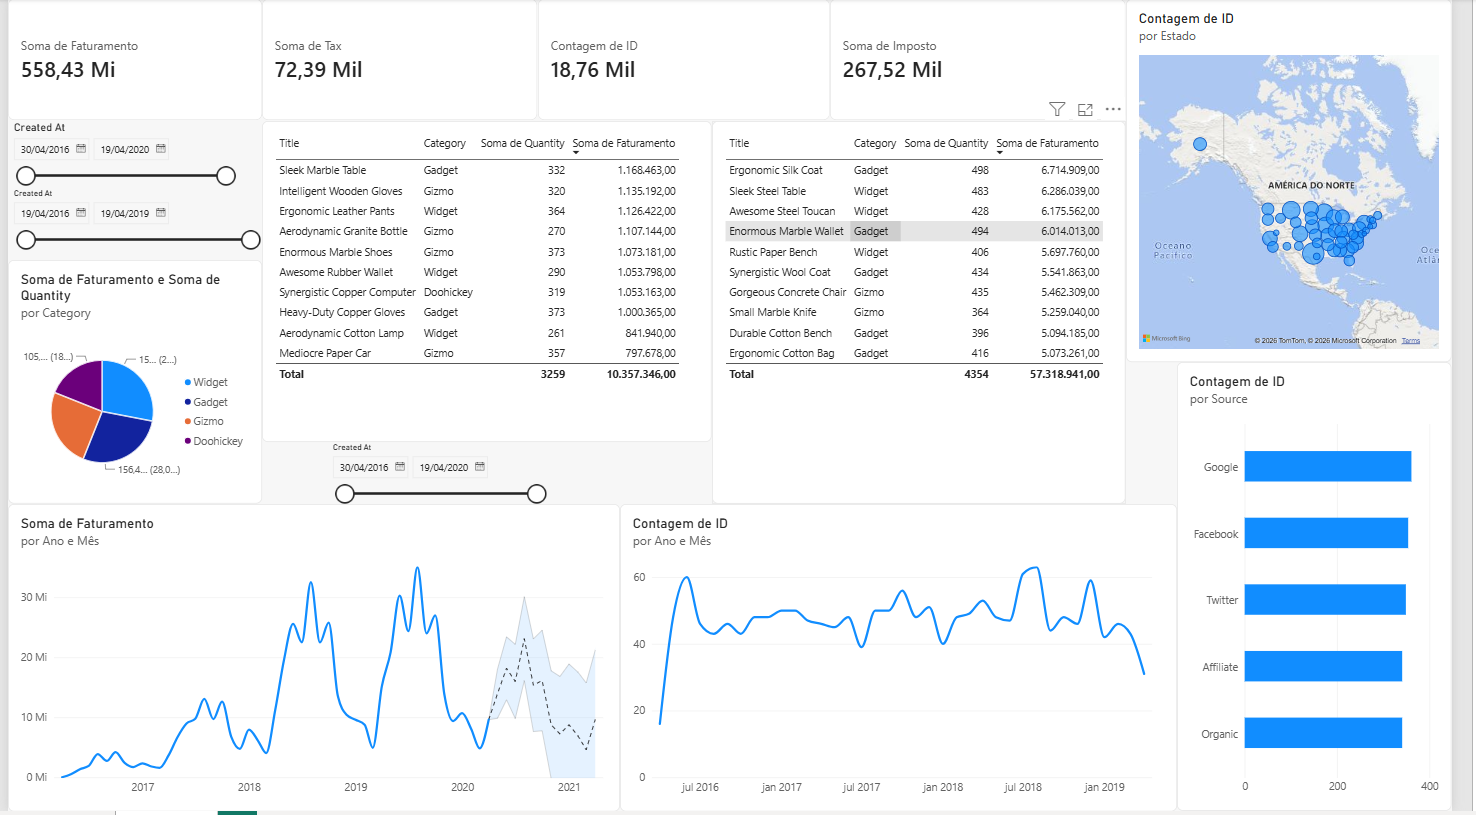

This screenshot's page, from the dashboard's own definition file:
{"tool":"powerbi","page":{"name":"Página 1","canvas":[1920,1080],"ordinal":0},"visuals":[{"type":"cardVisual","fields":{"Data":["Sum(Orders.Faturamento)"]},"box":[0,0,338.5,161.9],"z":0},{"type":"cardVisual","fields":{"Data":["Count(Orders.ID)"]},"box":[704.7,0,388.1,161.9],"z":1000},{"type":"cardVisual","fields":{"Data":["Sum(Orders.Tax)"]},"box":[338.5,0,366.2,161.9],"z":2000},{"type":"slicer","fields":{"Values":["Orders.Created At"]},"box":[0,161.7,305.7,161.4],"z":3000},{"type":"pieChart","fields":{"Category":["Products.Category"],"Y":["Sum(Orders.Faturamento)"]},"box":[0,347.2,338.5,323.9],"z":4000},{"type":"lineChart","fields":{"Category":["People.Created At.Variação.Hierarquia de datas.Ano","People.Created At.Variação.Hierarquia de datas.Mês"],"Y":["CountNonNull(People.ID)"]},"box":[814.1,671.1,741.2,408.5],"z":5000},{"type":"slicer","fields":{"Values":["People.Created At"]},"box":[0,250.9,338.5,96.3],"z":6000},{"type":"lineChart","fields":{"Category":["Orders.Created At.Variação.Hierarquia de datas.Ano","Orders.Created At.Variação.Hierarquia de datas.Mês","Orders.Created At.Variação.Hierarquia de datas.Dia"],"Y":["Sum(Orders.Faturamento)"]},"box":[0,671.1,814.1,408.5],"z":7000},{"type":"map","fields":{"Category":["People.Estado"],"Size":["CountNonNull(People.ID)"]},"box":[1486.7,0,433.3,482.9],"z":8000},{"type":"barChart","fields":{"Category":["People.Source"],"Y":["CountNonNull(People.ID)"]},"box":[1555.3,482.9,364.7,596.7],"z":9000},{"type":"cardVisual","fields":{"Data":["Sum(Orders.Imposto)"]},"box":[1092.8,0,393.9,161.9],"z":10000},{"type":"tableEx","fields":{"Values":["Products.Title","Products.Category","Sum(Orders.Quantity)","Sum(Orders.Faturamento)"]},"box":[338.5,161.9,598.2,427.5],"z":10001},{"type":"tableEx","fields":{"Values":["Products.Title","Products.Category","Sum(Orders.Quantity)","Sum(Orders.Faturamento)"]},"box":[936.7,161.9,550,509.2],"z":10002},{"type":"slicer","fields":{"Values":["Orders.Created At"]},"box":[424.6,589.4,294.7,81.7],"z":10003}]}

Visuals, with their boxes in screenshot pixels (x1, y1, x2, y2), scaled from the page's 1920x1080 canvas onto the 1476x815 screenshot:
cardVisual - Sum(Orders.Faturamento): l=0, t=0, r=260, b=122
cardVisual - Count(Orders.ID): l=542, t=0, r=840, b=122
cardVisual - Sum(Orders.Tax): l=260, t=0, r=542, b=122
slicer - Orders.Created At: l=0, t=122, r=235, b=244
pieChart - Products.Category x Sum(Orders.Faturamento): l=0, t=262, r=260, b=506
lineChart - People.Created At.Variação.Hierarquia de datas.Ano x People.Created At.Variação.Hierarquia de datas.Mês: l=626, t=506, r=1196, b=814
slicer - People.Created At: l=0, t=189, r=260, b=262
lineChart - Orders.Created At.Variação.Hierarquia de datas.Ano x Orders.Created At.Variação.Hierarquia de datas.Mês: l=0, t=506, r=626, b=814
map - People.Estado x CountNonNull(People.ID): l=1143, t=0, r=1475, b=364
barChart - People.Source x CountNonNull(People.ID): l=1196, t=364, r=1475, b=814
cardVisual - Sum(Orders.Imposto): l=840, t=0, r=1143, b=122
tableEx - Products.Title x Products.Category: l=260, t=122, r=720, b=445
tableEx - Products.Title x Products.Category: l=720, t=122, r=1143, b=506
slicer - Orders.Created At: l=326, t=445, r=553, b=506
